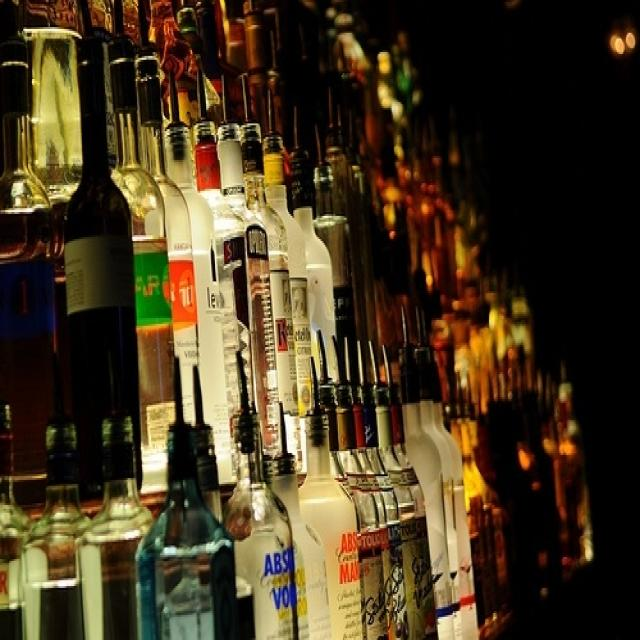Glass: (3, 25, 581, 635)
